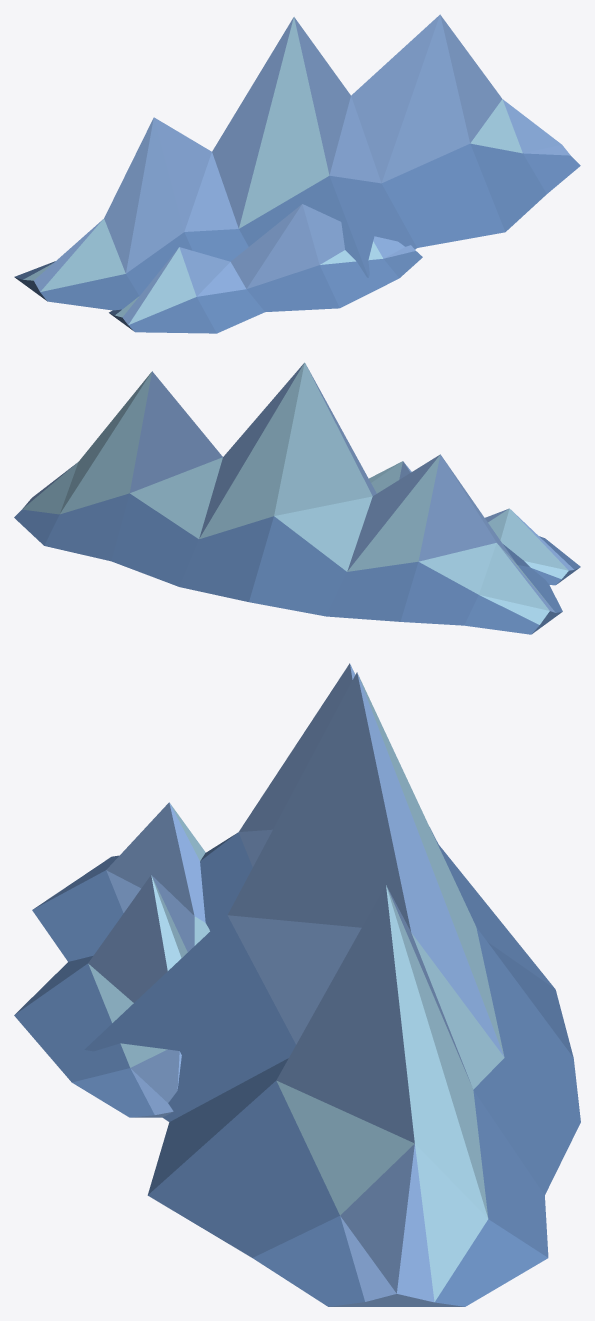
The picture shows the model from 3 angles, top to bottom: view 1: azimuth 30°, elevation 25°; view 2: azimuth 150°, elevation 25°; view 3: azimuth 270°, elevation 25°; orthographic projection. The views are drawn at different scales.
Parts seen in each view (by area): view 1: 连续折脊_snow.001; view 2: 连续折脊_snow.001; view 3: 连续折脊_snow.001.
Boxes of the visible parts, <box> form: 连续折脊_snow.001: <box>14,14,580,333</box>; 连续折脊_snow.001: <box>14,362,580,634</box>; 连续折脊_snow.001: <box>14,663,580,1306</box>.
Bounding box in the file's own units: 3.15 × 1.18 × 1.57.
